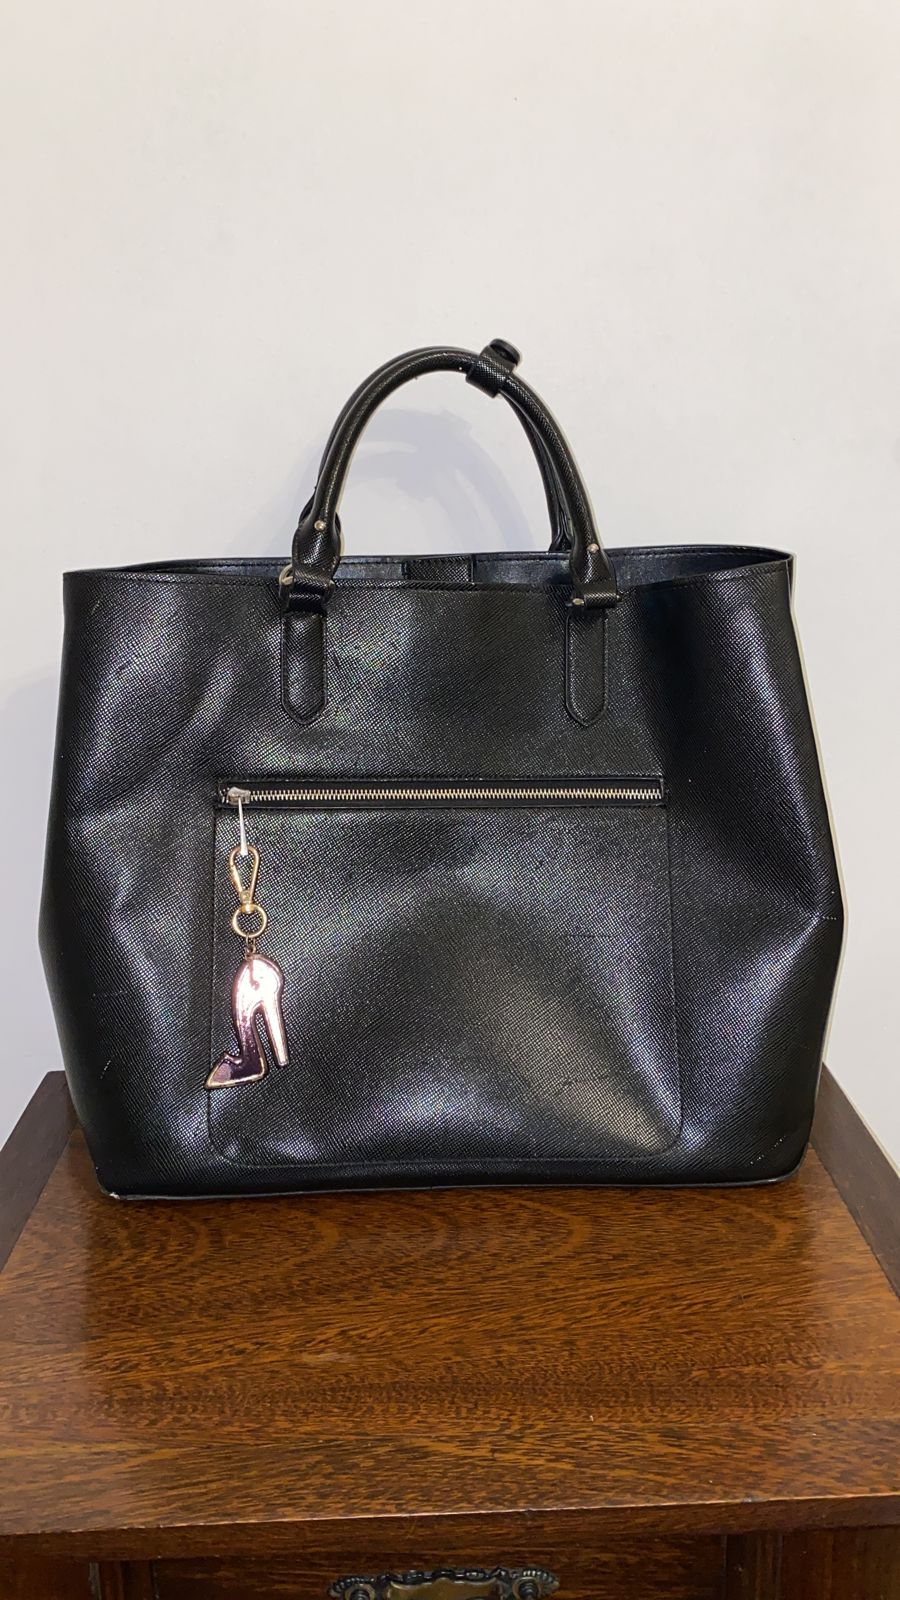cartera: (40, 336, 851, 1214)
cuero: (91, 615, 786, 1162)
